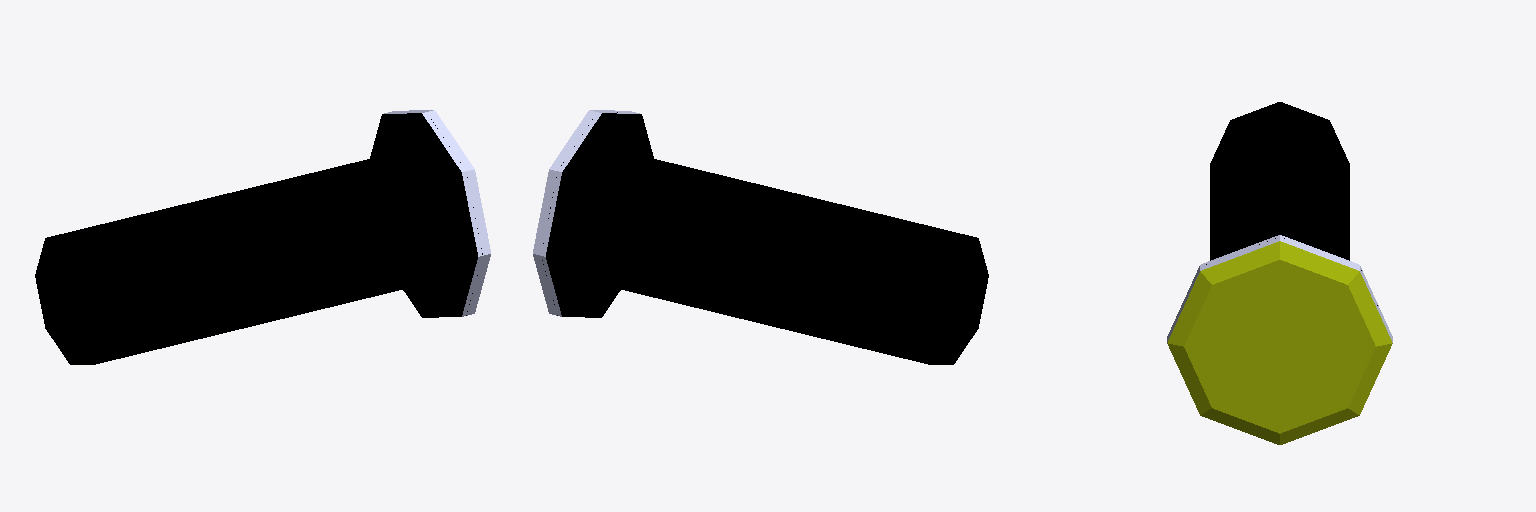
Rendered from lanterna.obj.
The picture shows the model from 3 angles: view 1: azimuth 30°, elevation 25°; view 2: azimuth 150°, elevation 25°; view 3: azimuth 270°, elevation 25°; orthographic projection.
Parts seen in each view (by area): view 1: Cilindro; view 2: Cilindro; view 3: Cilindro.
Boxes of the visible parts, <box> form: Cilindro: <box>35,110,490,364</box>; Cilindro: <box>533,110,988,364</box>; Cilindro: <box>1167,102,1392,444</box>.
Size of the model in its own units: 6.09 by 3.2 by 3.2.